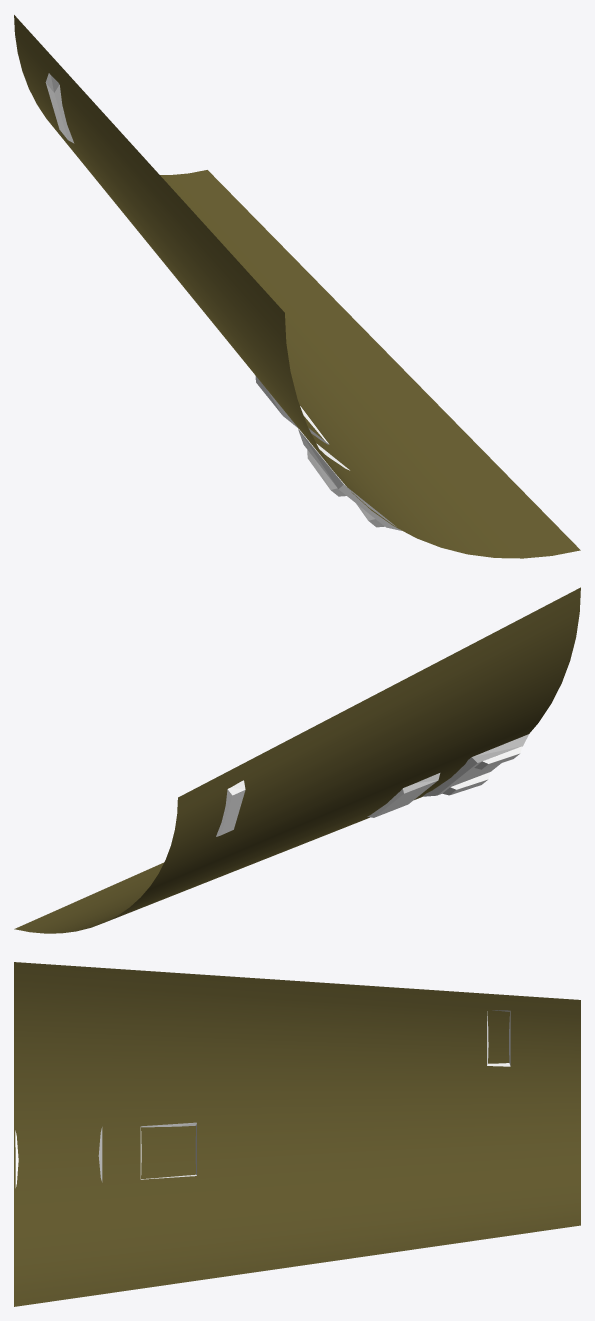
The model's file is sat5stg31.obj.
The picture shows the model from 3 angles, top to bottom: view 1: azimuth 30°, elevation 25°; view 2: azimuth 150°, elevation 25°; view 3: azimuth 270°, elevation 25°; orthographic projection. The views are drawn at different scales.
Visible parts, largest first — view 1: group0; view 2: group0; view 3: group0.
Part boxes in pixels (x1=…): group0: x1=14, y1=15, x2=580, y2=558; group0: x1=14, y1=587, x2=580, y2=933; group0: x1=14, y1=962, x2=580, y2=1306.
Bounding box in the file's own units: 2.99 × 2.99 × 6.53.
